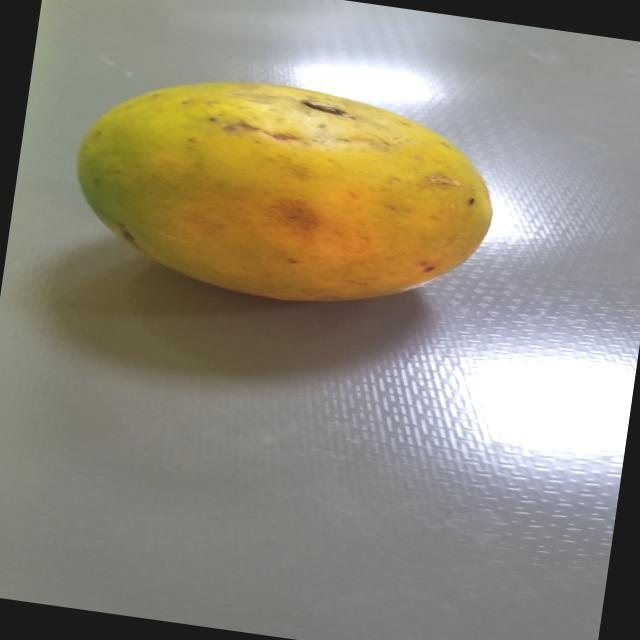agrume: (30, 42, 542, 336)
